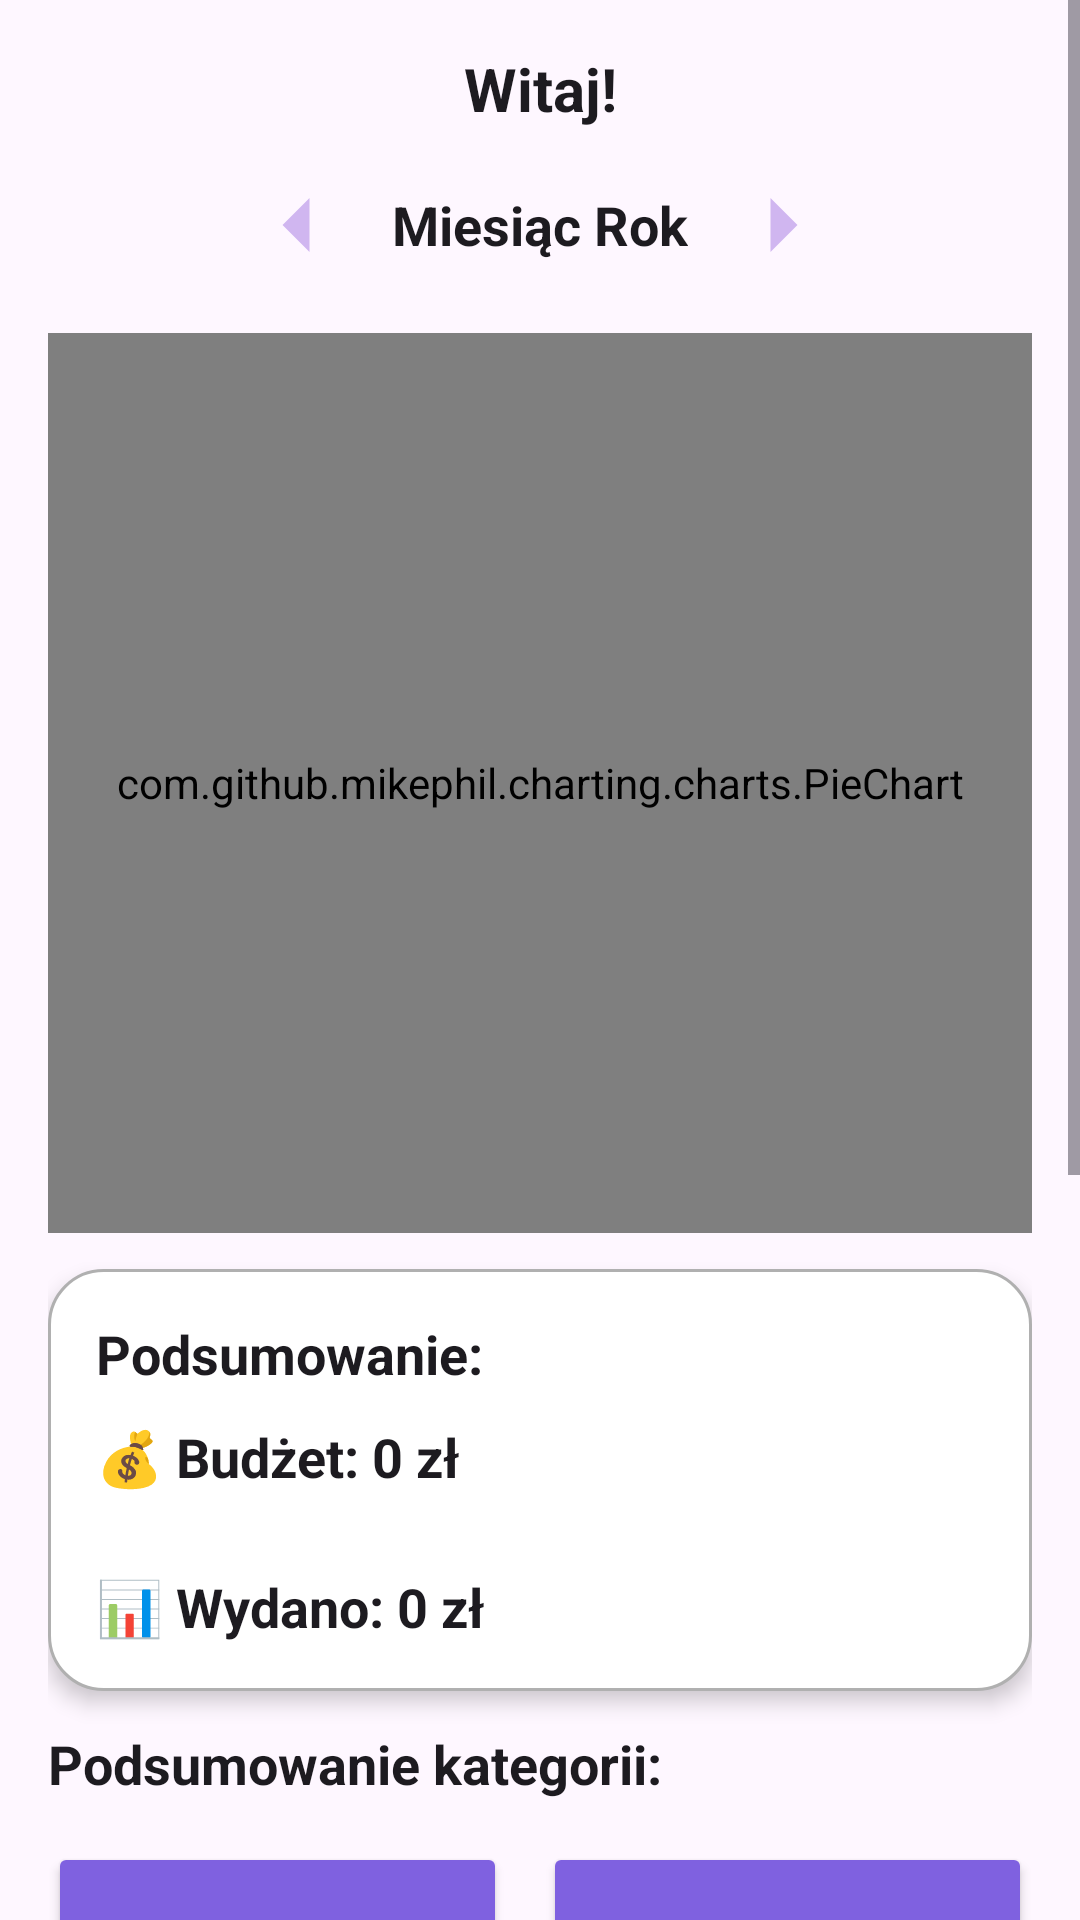

Icon click points for this 1080*1920 phone screenshot, format (x,y):
Następny miesiąc: (783,225)
Poprzedni miesiąc: (296,225)
